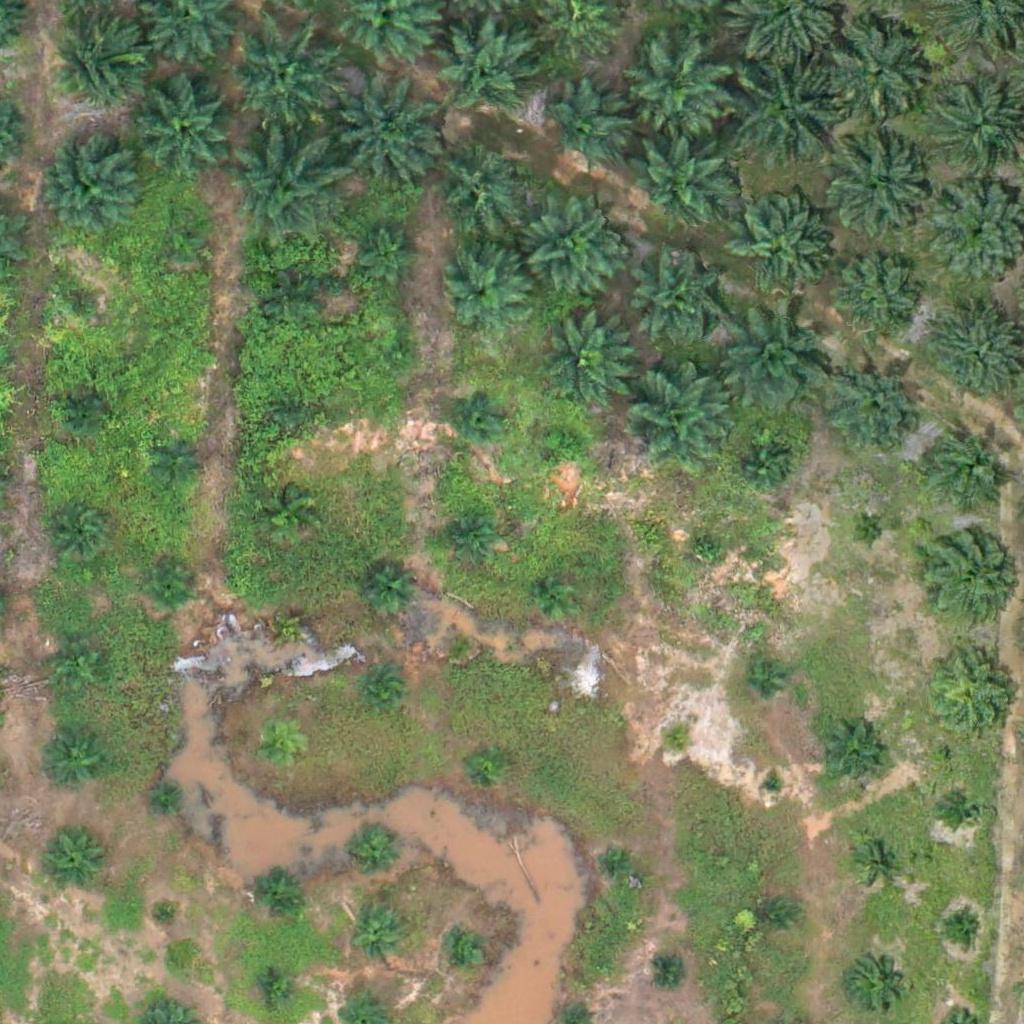Kelapa_Sawit: (331, 78, 444, 191), (731, 57, 844, 170), (722, 306, 835, 419), (230, 22, 342, 135), (226, 130, 338, 243), (629, 130, 729, 231), (524, 199, 624, 300), (435, 17, 535, 118), (428, 136, 528, 237), (134, 79, 234, 180), (45, 13, 145, 114), (730, 197, 830, 298), (827, 145, 927, 246), (825, 24, 925, 125), (916, 417, 1016, 518), (918, 523, 1018, 624), (923, 644, 1023, 745), (629, 371, 729, 472), (625, 40, 725, 140), (37, 133, 137, 233), (532, 311, 632, 411), (544, 84, 632, 172), (631, 254, 719, 342), (934, 88, 1022, 176), (442, 251, 529, 340), (831, 362, 918, 451), (830, 255, 917, 343), (38, 717, 113, 793), (818, 725, 881, 788), (51, 499, 114, 562), (43, 829, 106, 891), (358, 219, 420, 282), (262, 488, 312, 539), (359, 568, 409, 619), (254, 725, 304, 776), (349, 826, 399, 877), (737, 439, 787, 490), (55, 390, 105, 441), (848, 955, 898, 1006), (155, 434, 205, 485), (267, 597, 317, 648), (54, 648, 104, 698), (247, 865, 297, 915), (354, 910, 404, 960), (158, 218, 208, 268), (54, 283, 104, 333), (269, 277, 319, 327), (443, 513, 493, 563), (456, 390, 506, 440), (754, 897, 792, 935), (148, 778, 186, 816), (546, 425, 584, 463), (537, 576, 575, 614), (689, 532, 727, 570), (851, 513, 889, 551), (657, 722, 695, 760), (259, 967, 297, 1005), (948, 791, 986, 829), (152, 565, 190, 602), (447, 934, 484, 972), (942, 908, 979, 946), (860, 841, 897, 879), (654, 952, 692, 989), (275, 392, 312, 430), (380, 337, 417, 375), (741, 661, 778, 699), (438, 622, 475, 660), (149, 892, 186, 930), (364, 672, 401, 709), (469, 745, 506, 782), (600, 843, 637, 880), (760, 771, 785, 796)
